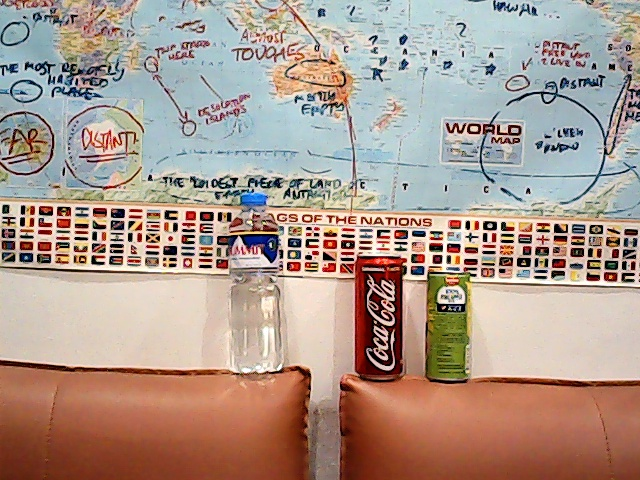Cola: (348, 250, 406, 383)
Pine Juice: (419, 260, 478, 391)
Summit Water: (223, 189, 285, 379)
